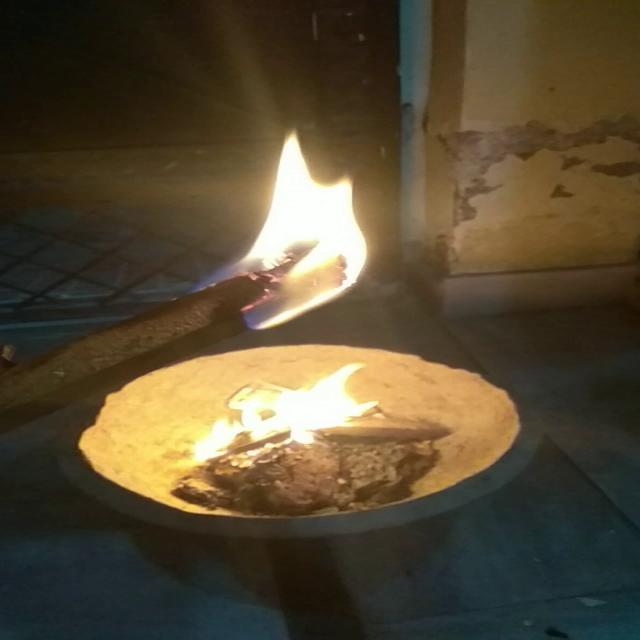fire: (227, 133, 377, 320), (208, 365, 382, 462)
